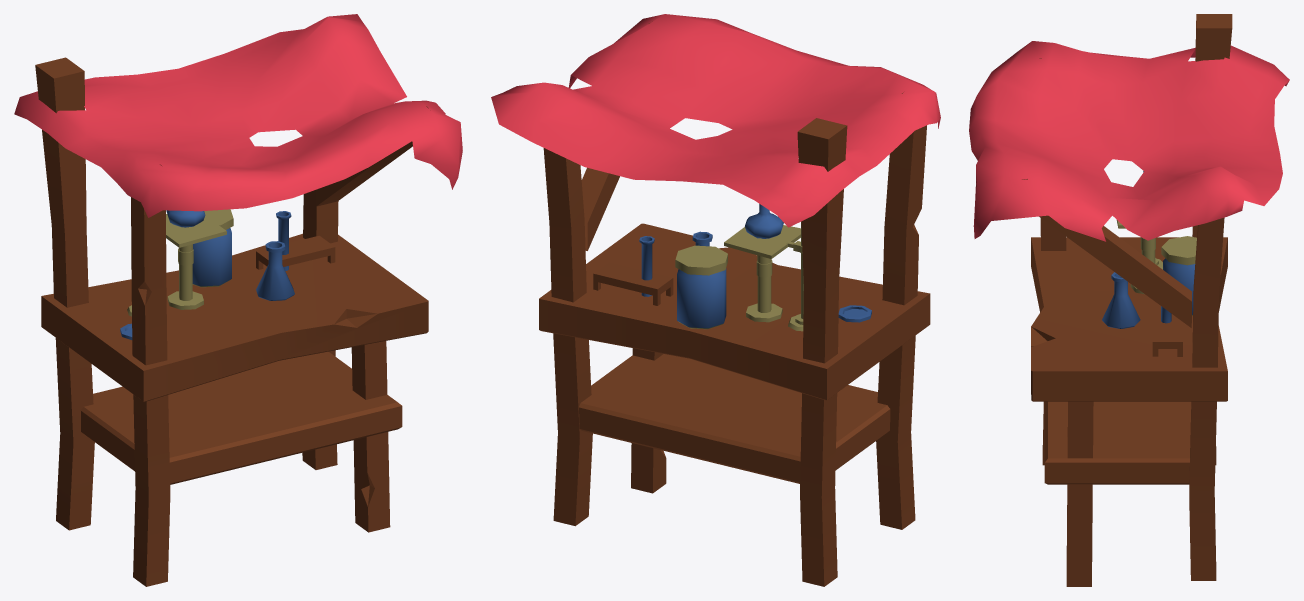
The model's file is SM_science_desk.fbx.
3 views of the same model, side by side, from view 1: azimuth 30°, elevation 25°; view 2: azimuth 150°, elevation 25°; view 3: azimuth 270°, elevation 25° (orthographic). The views are drawn at different scales.
Parts seen in each view (by area): view 1: table, science_obj.001, science_obj; view 2: table, science_obj.001, science_obj; view 3: table, science_obj.001, science_obj.
Boxes of the visible parts, box(x1,y1,x2,y2) form: table: box(35, 57, 428, 586); science_obj.001: box(14, 14, 462, 217); science_obj: box(120, 209, 294, 339); table: box(539, 21, 930, 586); science_obj.001: box(491, 14, 940, 227); science_obj: box(639, 204, 871, 331); table: box(1022, 14, 1232, 586); science_obj.001: box(969, 41, 1289, 241); science_obj: box(1102, 171, 1196, 328).
Size of the model in its own units: 135 by 177 by 115.
